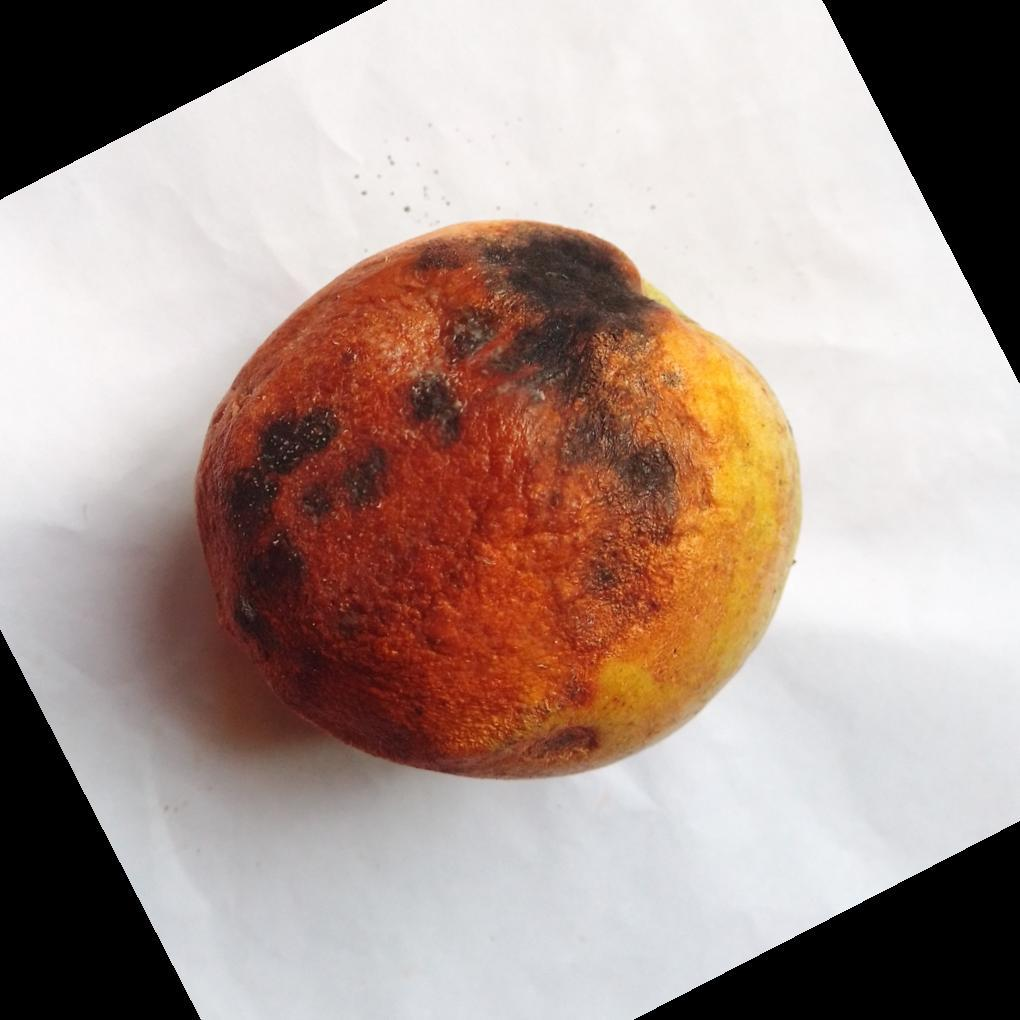FreshOrange: (192, 220, 803, 784)
